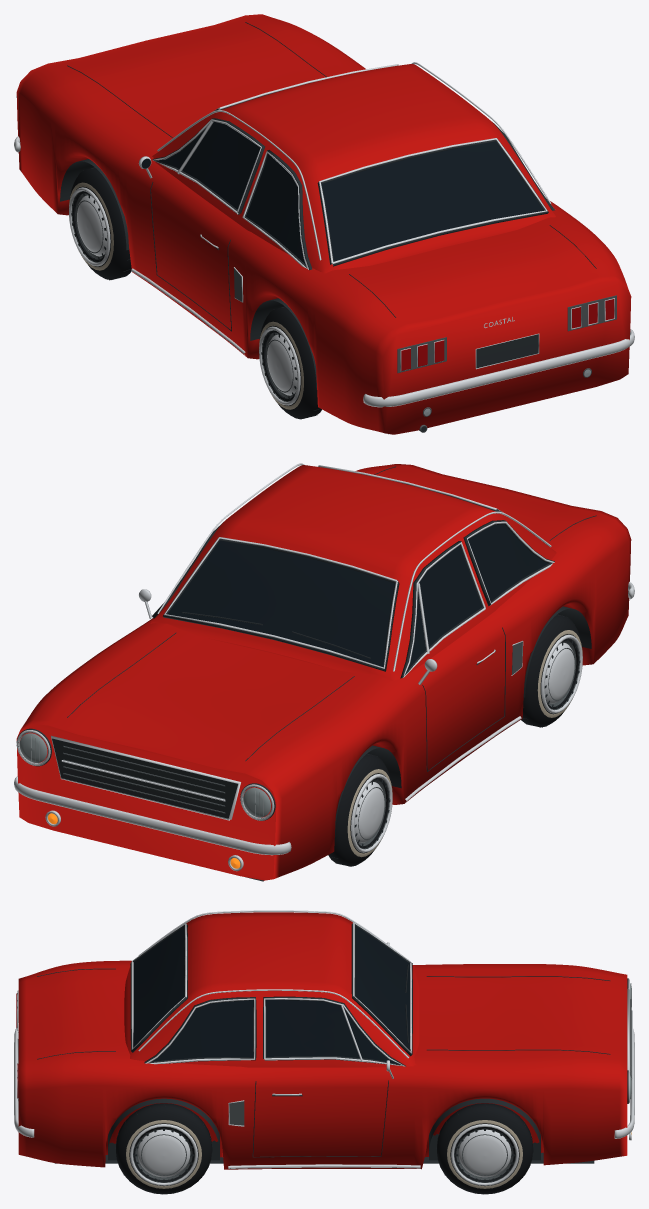
The model's file is classic_coupe_v1.glb.
The picture shows the model from 3 angles, top to bottom: view 1: azimuth 30°, elevation 25°; view 2: azimuth 150°, elevation 25°; view 3: azimuth 270°, elevation 25°; orthographic projection. The views are drawn at different scales.
Visible parts, largest first — view 1: Body Paint surfaces, Blue Grey Glass surfaces, Brushed Wheel Metal surfaces, Satin Black Plastic surfaces, Tire Rubber surfaces, Tire Rubber surfaces.002, Brushed Wheel Metal surfaces.003, Brushed Wheel Metal surfaces.001, Graphite Metal surfaces, Tail Light surfaces; view 2: Body Paint surfaces, Blue Grey Glass surfaces, Satin Black Plastic surfaces, Brushed Wheel Metal surfaces, Tire Rubber surfaces.002, Tire Rubber surfaces, Brushed Wheel Metal surfaces.003, Brushed Wheel Metal surfaces.001, Graphite Metal surfaces, Head Light surfaces; view 3: Body Paint surfaces, Blue Grey Glass surfaces, Satin Black Plastic surfaces, Brushed Wheel Metal surfaces, Tire Rubber surfaces.003, Tire Rubber surfaces.001, Brushed Wheel Metal surfaces.004, Brushed Wheel Metal surfaces.002, Whitewall Rubber surfaces.003, Whitewall Rubber surfaces.001, Graphite Metal surfaces.004, Graphite Metal surfaces.002 (+1 smaller).
Boxes of the visible parts, x1,y1,x2,y2 form: Body Paint surfaces: (16,14,631,434); Blue Grey Glass surfaces: (141,122,544,264); Brushed Wheel Metal surfaces: (14,62,634,407); Satin Black Plastic surfaces: (16,22,596,434); Tire Rubber surfaces: (69,167,131,279); Tire Rubber surfaces.002: (259,307,321,419); Brushed Wheel Metal surfaces.003: (259,326,300,405); Brushed Wheel Metal surfaces.001: (69,187,110,266); Graphite Metal surfaces: (234,268,616,432); Tail Light surfaces: (401,299,614,370); Body Paint surfaces: (16,464,631,880); Blue Grey Glass surfaces: (167,524,548,671); Satin Black Plastic surfaces: (16,465,596,881); Brushed Wheel Metal surfaces: (14,463,634,871); Tire Rubber surfaces.002: (521,614,581,727); Tire Rubber surfaces: (328,754,391,866); Brushed Wheel Metal surfaces.003: (541,634,582,713); Brushed Wheel Metal surfaces.001: (351,774,392,852); Graphite Metal surfaces: (63,641,522,813); Head Light surfaces: (19,733,270,817); Body Paint surfaces: (18,912,627,1169); Blue Grey Glass surfaces: (133,926,409,1064); Satin Black Plastic surfaces: (18,924,628,1163); Brushed Wheel Metal surfaces: (14,910,634,1168); Tire Rubber surfaces.003: (116,1103,211,1194); Tire Rubber surfaces.001: (437,1103,532,1194); Brushed Wheel Metal surfaces.004: (130,1124,197,1185); Brushed Wheel Metal surfaces.002: (451,1124,518,1185); Whitewall Rubber surfaces.003: (126,1120,201,1188); Whitewall Rubber surfaces.001: (447,1120,522,1188); Graphite Metal surfaces.004: (133,1127,194,1182); Graphite Metal surfaces.002: (454,1127,515,1182).
Size of the model in its own units: 1.99 by 1.48 by 4.26.
